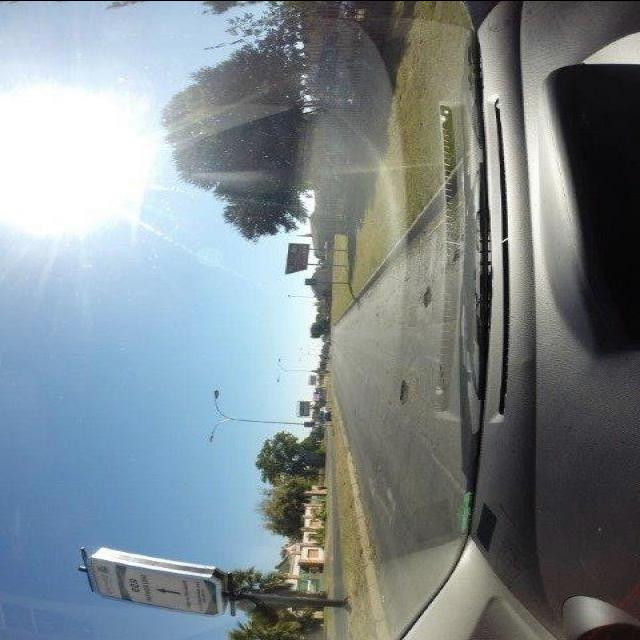lubang: (446, 232, 471, 265), (390, 374, 410, 409), (419, 280, 437, 314)
